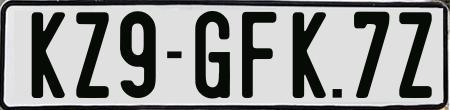7: (353, 9, 392, 100)
9: (118, 10, 157, 102)
F: (240, 11, 278, 100)
G: (193, 8, 231, 99)
K: (291, 9, 329, 95), (32, 12, 66, 101)
Z: (76, 11, 115, 99), (399, 11, 437, 99)
